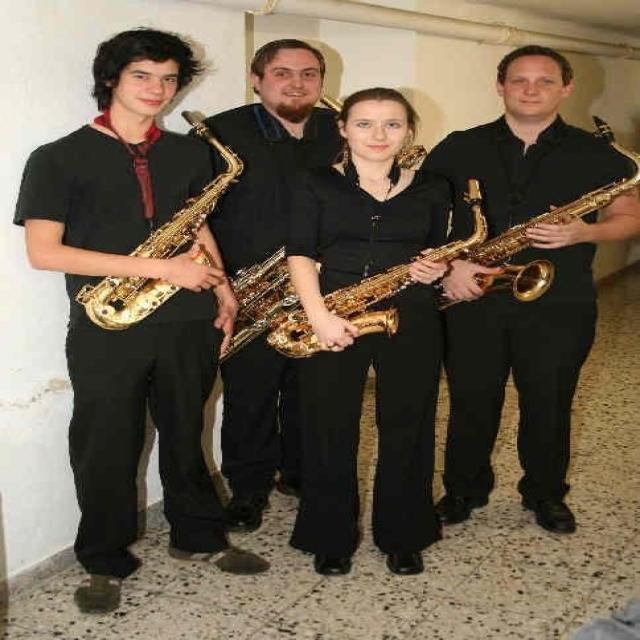saxophone: (257, 172, 510, 355), (420, 112, 640, 314), (75, 105, 251, 340)
